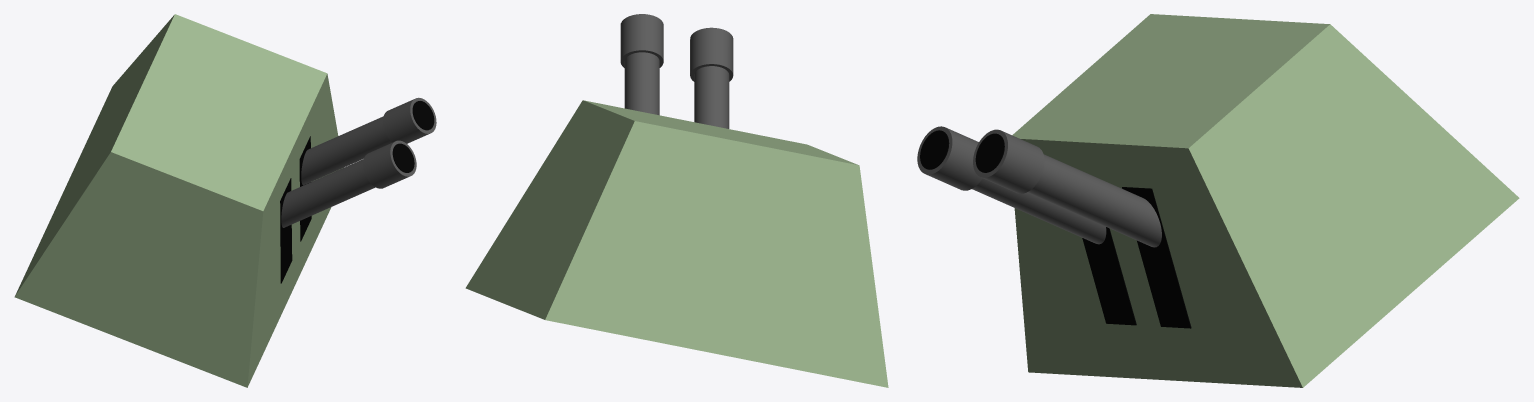
Rendered from disparo mejorado.fbx.
3 renders of one model, left to right at view 1: azimuth 30°, elevation 25°; view 2: azimuth 150°, elevation 25°; view 3: azimuth 270°, elevation 25°, orthographic. The views are drawn at different scales.
Parts seen in each view (by area): view 1: Cube.014, Cylinder.045, Cylinder.046, Cylinder.049, Cylinder.050, Cube.015, Cylinder.048, Cylinder.047; view 2: Cube.014, Cylinder.045, Cylinder.046, Cylinder.050, Cylinder.049; view 3: Cube.014, Cylinder.046, Cube.016, Cube.015, Cylinder.045, Cylinder.050, Cylinder.049, Cylinder.048, Cylinder.047.
Boxes of the visible parts, x1,y1,x2,y2 form: Cube.014: (14,14,342,387); Cylinder.045: (281,159,375,227); Cylinder.046: (301,116,391,185); Cylinder.049: (363,140,416,188); Cylinder.050: (383,97,436,143); Cube.015: (280,178,292,283); Cylinder.048: (412,101,434,130); Cylinder.047: (392,143,414,172); Cube.014: (465,100,888,387); Cylinder.045: (694,66,729,128); Cylinder.046: (624,52,659,115); Cylinder.050: (620,14,663,67); Cylinder.049: (690,27,733,81); Cube.014: (1012,14,1519,387); Cylinder.046: (1027,154,1161,247); Cube.016: (1122,187,1191,328); Cube.015: (1082,227,1136,325); Cylinder.045: (972,178,1106,244); Cylinder.050: (973,129,1044,193); Cylinder.049: (917,126,982,190); Cylinder.048: (975,133,1004,172); Cylinder.047: (920,130,949,169).
Bounding box in the file's own units: 229 × 174 × 254.
